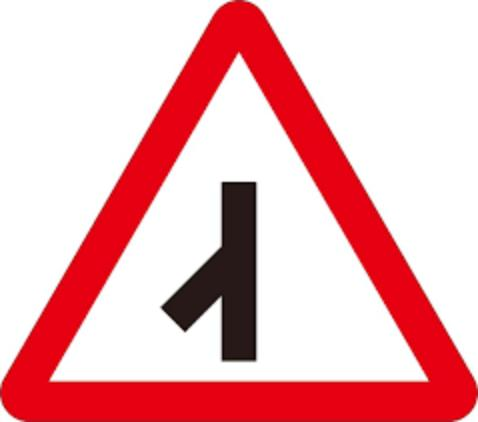fork_road: (2, 0, 476, 418)
